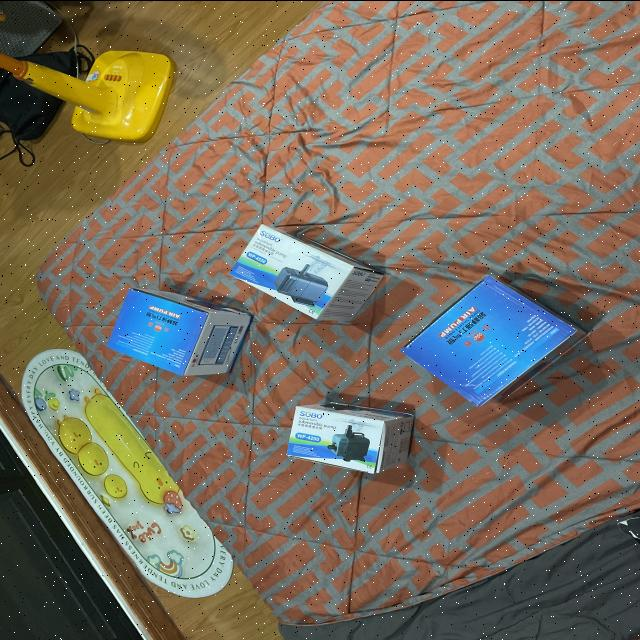SOBO_WP_4200: (226, 192, 412, 332), (272, 393, 424, 488)
YAMANO_LPP_20: (391, 261, 599, 413), (90, 278, 264, 386)
